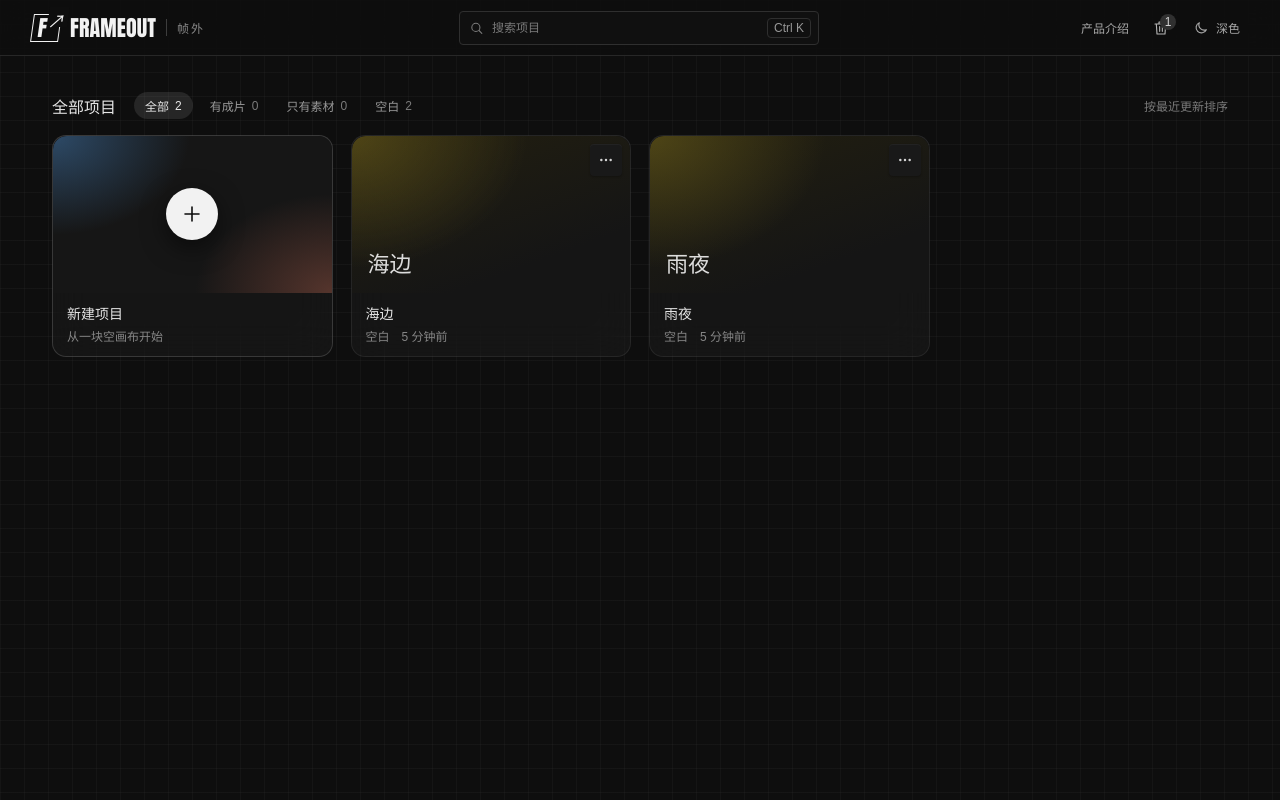
Test: project lobby › moves a deleted project to the trash and restores it
Later steps or results of the test are not shown.
What coordinates should you click on to do the following:
click the button named "「海边」更多操作"
I would click on:
 (606, 160)
Its box is top-left (590, 144), bottom-right (622, 176).
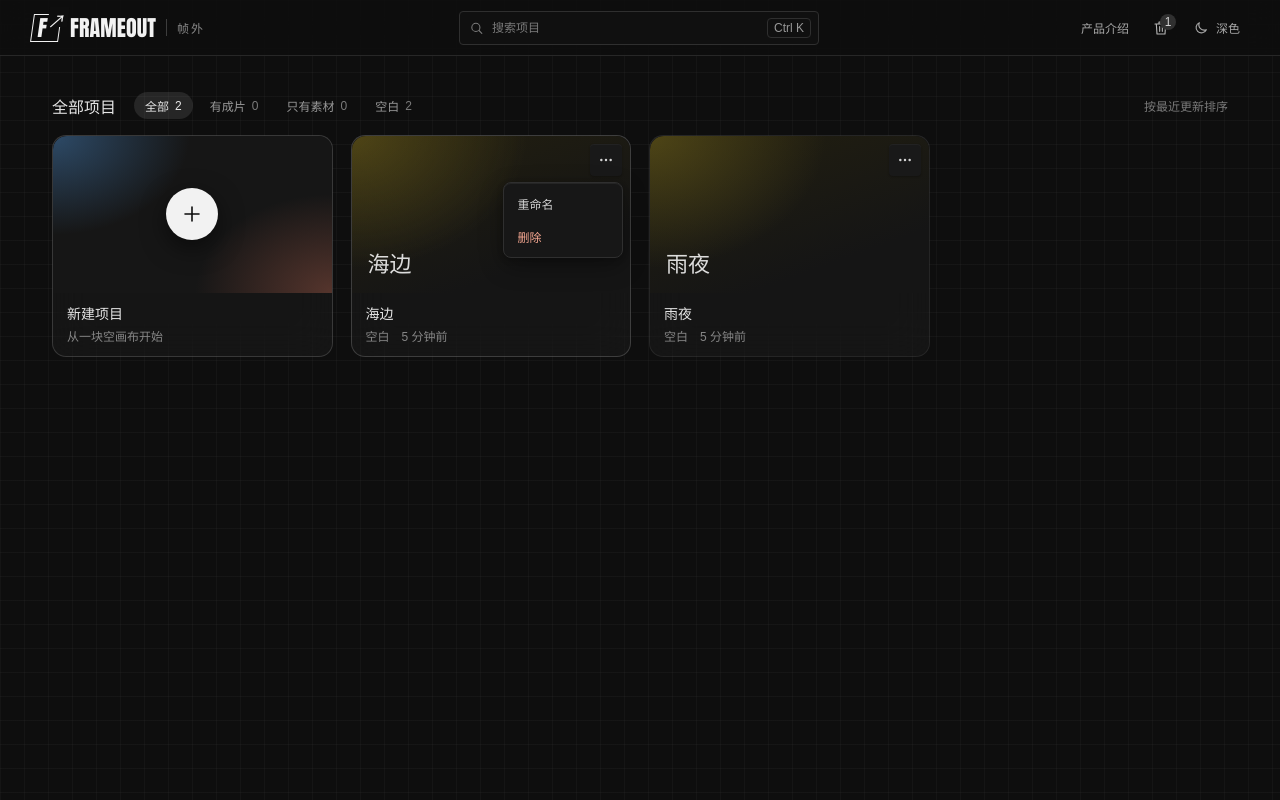
What coordinates should you click on to do the following:
click the menu item "删除"
I would click on:
 (530, 238)
Its box is top-left (518, 231), bottom-right (542, 245).
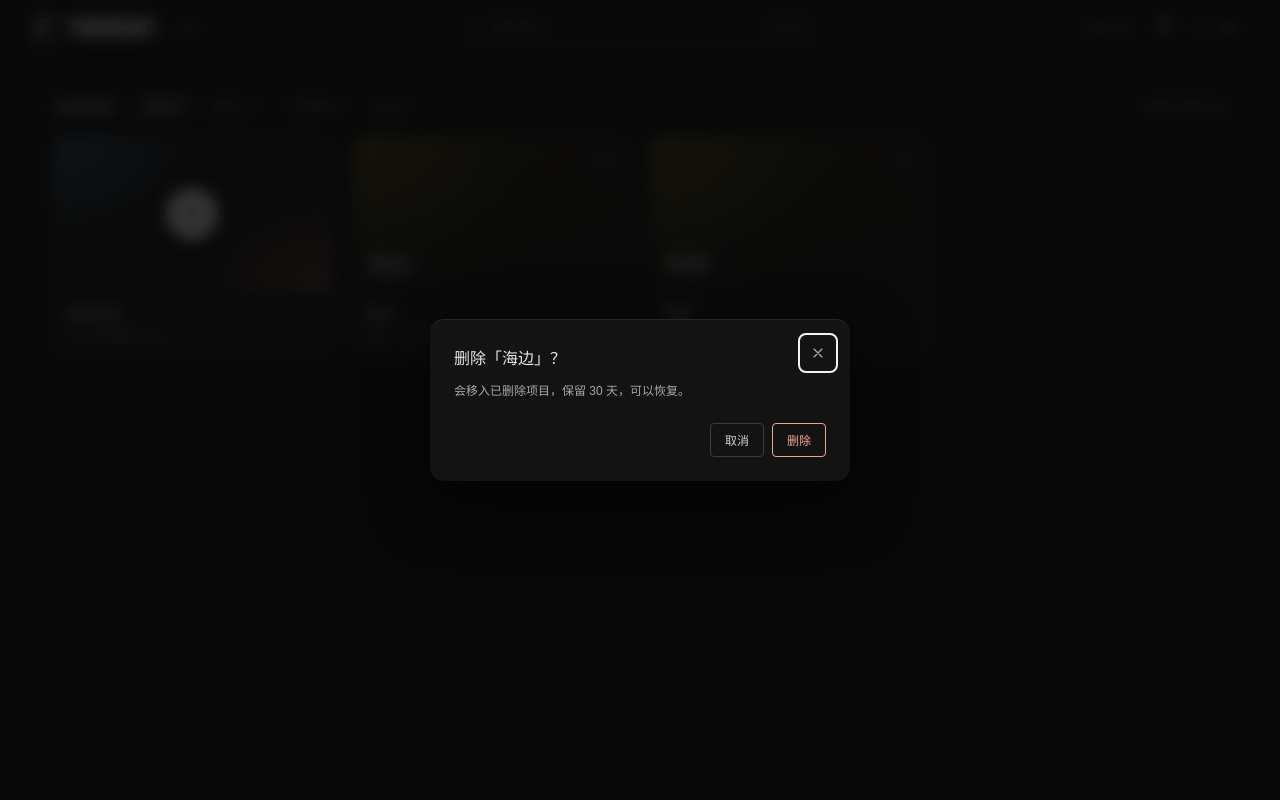
Check: the dialog "删除「海边」？" shows "会移入已删除项目，保留 30 天，可以恢复", box top-left (430, 319), bottom-right (850, 481)
